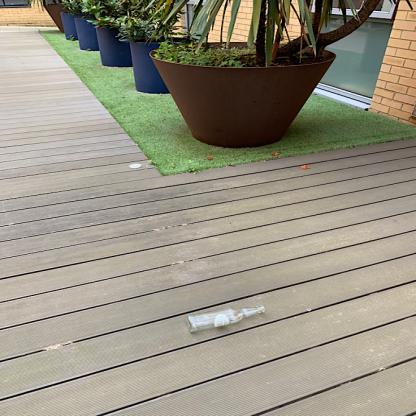trash: (180, 304, 268, 337)
